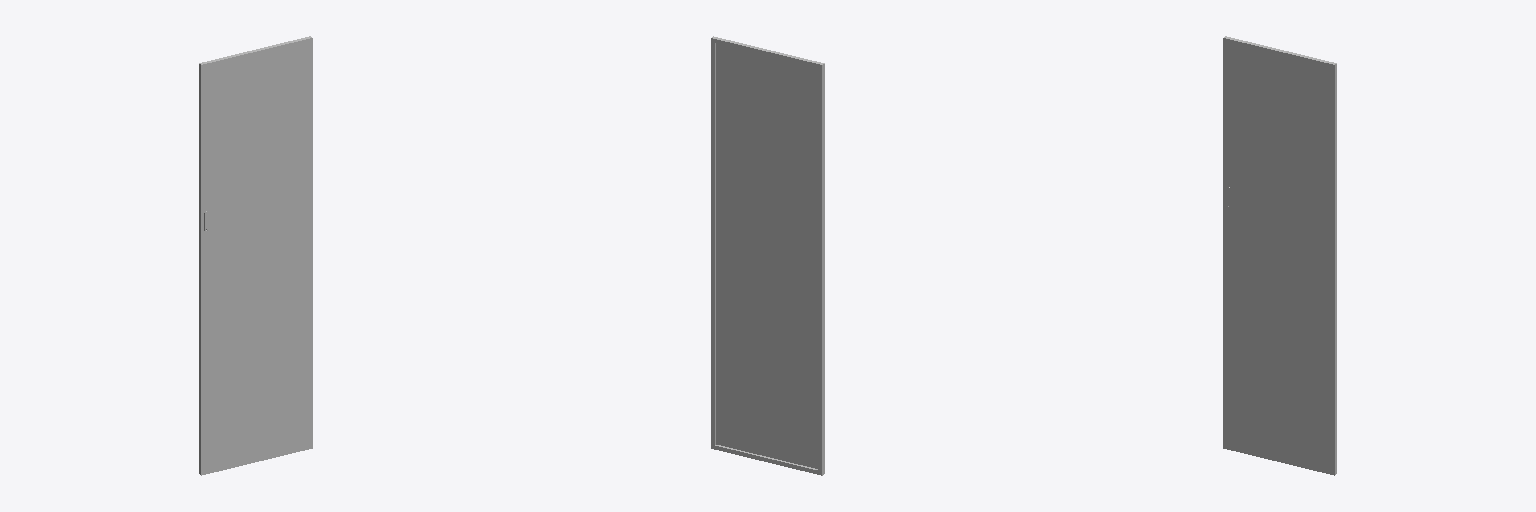
File: jiguimen.obj
3 renders of one model, left to right at view 1: azimuth 30°, elevation 25°; view 2: azimuth 150°, elevation 25°; view 3: azimuth 330°, elevation 25°, orthographic.
Parts seen in each view (by area): view 1: DX1_QM1; view 2: DX1_QM1; view 3: DX1_QM1.
Part boxes in pixels (bbox=[...]): DX1_QM1: bbox=[199, 36, 312, 475]; DX1_QM1: bbox=[711, 36, 824, 475]; DX1_QM1: bbox=[1223, 36, 1336, 475].
Bounding box in the file's own units: 56 × 198 × 2.2.